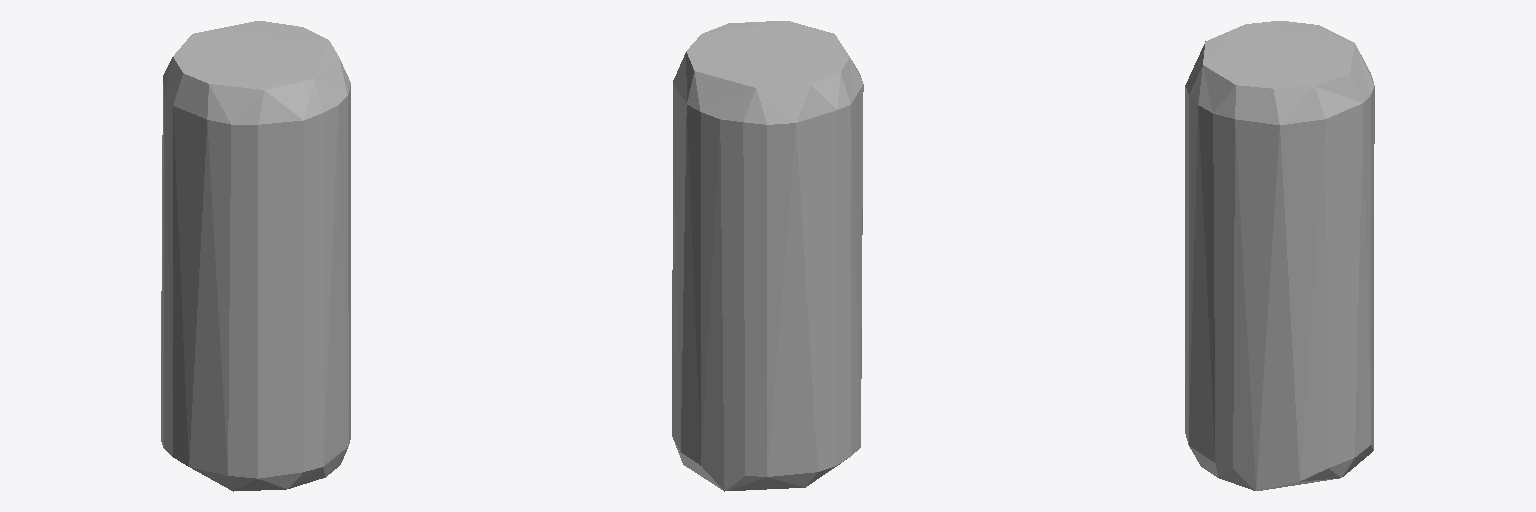
The robot description file, URDF, robot "root":
<robot name="root">
  <link name="link_coacd_convex_piece_0">
    <inertial>
      <mass value="0.1"/>
      <origin xyz="0 0 0" rpy="0 0 0"/>
      <inertia ixx="2.41E-01" ixy="1.28E-07" ixz="8.08E-06" iyy="2.41E-01" iyz="9.50E-06" izz="5.91E-02"/>
    </inertial>
    <visual>
      <origin xyz="0 0 0" rpy="0 0 0"/>
      <geometry>
        <mesh filename="decomposed_new1.obj" scale="1.0000E+00 1.0000E+00 1.0000E+00"/>
      </geometry>
      <material name="">
        <color rgba="7.50E-01 7.50E-01 7.50E-01 1"/>
      </material>
    </visual>
    <collision>
      <origin xyz="0 0 0" rpy="0 0 0"/>
      <geometry>
        <mesh filename="decomposed_new1.obj" scale="1.0000E+00 1.0000E+00 1.0000E+00"/>
      </geometry>
    </collision>
  </link>
</robot>

--- Render facts (derived) ---
Views: 3 orthographic renders of the robot side by side, from view 1: azimuth 30°, elevation 25°; view 2: azimuth 150°, elevation 25°; view 3: azimuth 270°, elevation 25°.
Model root with 1 links and 0 joints (none), rooted at link_coacd_convex_piece_0, posed every joint at zero.
Links seen in each view (by area): view 1: link_coacd_convex_piece_0; view 2: link_coacd_convex_piece_0; view 3: link_coacd_convex_piece_0.
Boxes of the visible links, <box> form: link_coacd_convex_piece_0: <box>161,21,350,491</box>; link_coacd_convex_piece_0: <box>672,21,863,491</box>; link_coacd_convex_piece_0: <box>1185,21,1374,490</box>.
Size in the robot's own frame: 0.0862 by 0.0862 by 0.2001 metres.
1 mesh visuals loaded from 1 distinct referenced files (1 OBJ).
